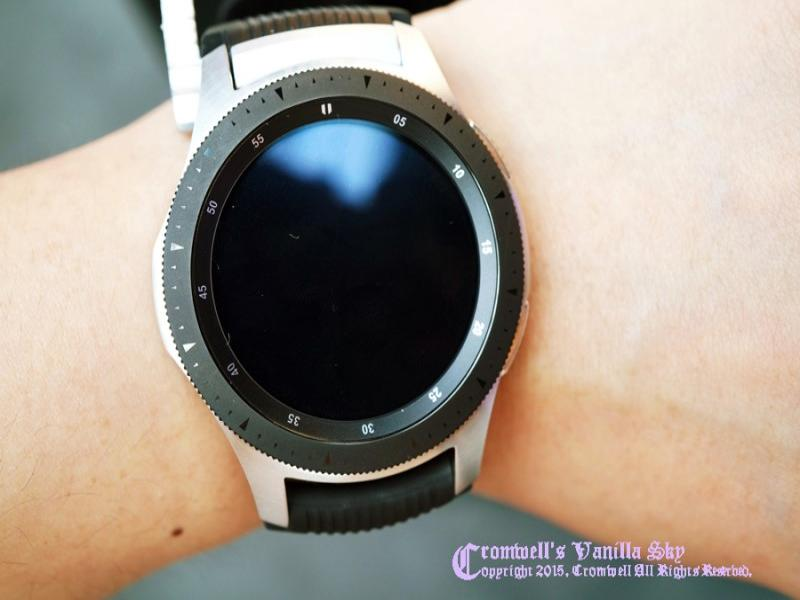watch: (161, 11, 539, 536)
